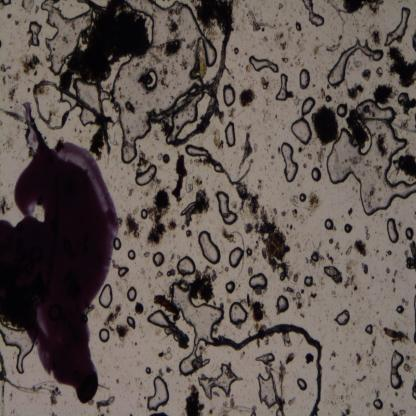Air bubble: (116, 0, 218, 166), (328, 101, 416, 216), (169, 283, 225, 373), (42, 1, 93, 74), (327, 43, 384, 87), (0, 322, 34, 377), (197, 363, 241, 400), (382, 7, 412, 48), (146, 374, 170, 412), (214, 189, 238, 227), (197, 231, 221, 265), (280, 141, 298, 184), (302, 0, 326, 29), (257, 374, 277, 408), (248, 54, 280, 75), (390, 349, 404, 392), (147, 308, 171, 333), (291, 119, 313, 145), (229, 300, 248, 327), (275, 72, 290, 102), (176, 256, 198, 276), (386, 217, 400, 245), (228, 247, 245, 270), (184, 143, 209, 158), (28, 21, 42, 47), (224, 120, 237, 148), (249, 272, 268, 291), (99, 285, 113, 310), (298, 66, 312, 90), (222, 83, 236, 106), (334, 308, 350, 328), (300, 97, 316, 115), (253, 353, 277, 365), (276, 294, 290, 314), (147, 69, 158, 90), (337, 101, 349, 119), (152, 251, 165, 267), (303, 272, 315, 289), (98, 328, 110, 343), (312, 166, 322, 183), (127, 286, 137, 302), (225, 280, 236, 294), (297, 378, 308, 392), (112, 236, 122, 251), (118, 266, 130, 278), (324, 218, 335, 231), (126, 316, 136, 330), (364, 322, 374, 336), (298, 190, 308, 204), (294, 20, 303, 34), (395, 304, 405, 316), (127, 249, 136, 262), (374, 400, 384, 411), (140, 209, 149, 220), (245, 246, 252, 258), (344, 223, 352, 233), (325, 94, 332, 105), (2, 0, 12, 6), (233, 48, 240, 56), (145, 366, 151, 374)
Background material: (58, 2, 150, 86), (238, 183, 291, 279), (146, 188, 178, 244), (387, 45, 416, 91), (182, 266, 219, 302), (179, 188, 210, 228), (236, 129, 262, 173), (312, 106, 340, 146), (348, 108, 370, 150), (286, 273, 306, 319), (153, 293, 182, 323), (246, 292, 268, 330), (216, 397, 257, 416), (0, 64, 21, 101), (196, 37, 212, 83), (183, 383, 205, 416), (342, 0, 384, 17), (246, 10, 275, 34), (373, 81, 398, 106), (19, 49, 42, 76), (171, 322, 191, 351), (392, 153, 416, 177), (122, 212, 141, 241), (277, 360, 287, 414), (168, 7, 184, 40), (2, 133, 21, 160), (89, 126, 104, 160), (382, 327, 410, 345), (397, 92, 416, 118), (344, 240, 371, 258), (135, 165, 157, 186), (208, 127, 227, 151), (344, 260, 357, 294), (105, 304, 121, 331), (346, 82, 366, 103), (304, 249, 327, 267), (277, 32, 289, 66), (308, 191, 323, 218), (256, 103, 272, 128), (212, 0, 234, 18), (366, 159, 384, 181), (402, 243, 416, 271), (219, 225, 237, 246), (326, 263, 344, 284), (150, 40, 164, 66), (242, 86, 256, 112), (159, 63, 171, 93), (376, 132, 389, 159), (294, 31, 308, 55), (136, 152, 150, 174), (164, 40, 181, 58), (96, 395, 116, 410), (324, 235, 341, 252), (411, 289, 416, 346), (187, 176, 204, 192), (348, 151, 364, 168), (366, 183, 380, 202), (0, 195, 13, 215), (370, 336, 378, 368), (115, 323, 129, 341), (52, 386, 66, 404), (178, 52, 190, 72), (281, 219, 294, 237), (303, 349, 315, 368), (158, 347, 173, 362), (391, 268, 398, 299), (280, 331, 292, 349), (213, 107, 226, 123), (124, 99, 136, 116), (404, 354, 414, 374), (110, 131, 121, 149), (47, 100, 58, 118), (288, 90, 301, 105), (360, 66, 371, 83), (184, 38, 197, 52), (254, 174, 266, 189), (404, 225, 415, 241), (36, 85, 50, 97), (324, 250, 336, 264), (312, 39, 322, 55), (286, 394, 296, 410), (260, 76, 270, 92), (283, 352, 295, 365), (22, 0, 34, 13), (327, 348, 338, 362), (88, 303, 99, 317), (410, 376, 416, 401), (198, 341, 208, 356), (186, 158, 210, 164), (317, 147, 325, 165), (410, 29, 416, 52), (362, 225, 370, 242), (375, 65, 384, 80), (310, 289, 317, 308), (356, 374, 368, 385), (141, 248, 152, 260), (338, 408, 354, 416), (168, 267, 178, 279), (375, 388, 384, 401), (58, 32, 67, 45), (361, 262, 369, 276), (287, 194, 297, 205), (168, 252, 177, 264), (318, 89, 327, 101), (110, 257, 119, 269), (290, 204, 297, 219), (356, 352, 362, 369), (124, 143, 134, 153), (174, 4, 184, 14), (116, 214, 124, 226), (238, 348, 246, 360), (221, 264, 230, 274), (184, 228, 194, 237), (74, 126, 82, 137), (382, 250, 393, 258), (227, 110, 236, 119), (341, 396, 351, 404), (127, 188, 135, 198), (286, 22, 292, 35), (136, 268, 147, 275), (119, 86, 124, 101), (347, 208, 354, 218), (154, 271, 164, 278), (133, 403, 143, 410), (136, 378, 143, 388), (242, 62, 249, 72), (254, 338, 260, 349), (400, 298, 408, 306), (165, 366, 174, 373), (307, 153, 313, 163), (156, 366, 162, 376), (396, 409, 406, 415), (264, 338, 271, 346), (330, 364, 337, 372), (277, 2, 283, 11), (302, 161, 308, 170), (158, 152, 163, 162), (34, 4, 39, 14), (50, 45, 57, 52), (114, 378, 120, 386), (25, 86, 31, 94), (50, 410, 58, 416), (248, 264, 252, 276), (106, 82, 112, 90), (10, 407, 16, 415), (8, 393, 13, 402), (147, 284, 153, 291), (281, 209, 287, 216), (370, 274, 376, 281), (274, 206, 278, 216), (7, 12, 12, 20), (324, 85, 332, 90), (0, 37, 3, 49), (154, 134, 160, 140), (209, 409, 215, 415), (271, 154, 276, 161), (276, 113, 280, 121), (14, 18, 18, 26), (392, 411, 398, 416), (133, 342, 137, 348), (394, 392, 398, 398), (150, 303, 154, 309), (127, 412, 132, 416), (390, 403, 394, 408), (300, 148, 304, 152), (144, 395, 147, 400), (388, 269, 390, 274), (377, 251, 379, 254)
Cellulose filter fibre: (206, 321, 324, 415), (182, 13, 236, 141), (33, 79, 112, 129), (151, 81, 215, 124), (0, 377, 53, 408), (214, 160, 253, 187)
Diatom: (134, 301, 144, 316), (162, 153, 171, 165)
Microfibre: (172, 154, 187, 201)
Pen: (0, 103, 123, 401)
